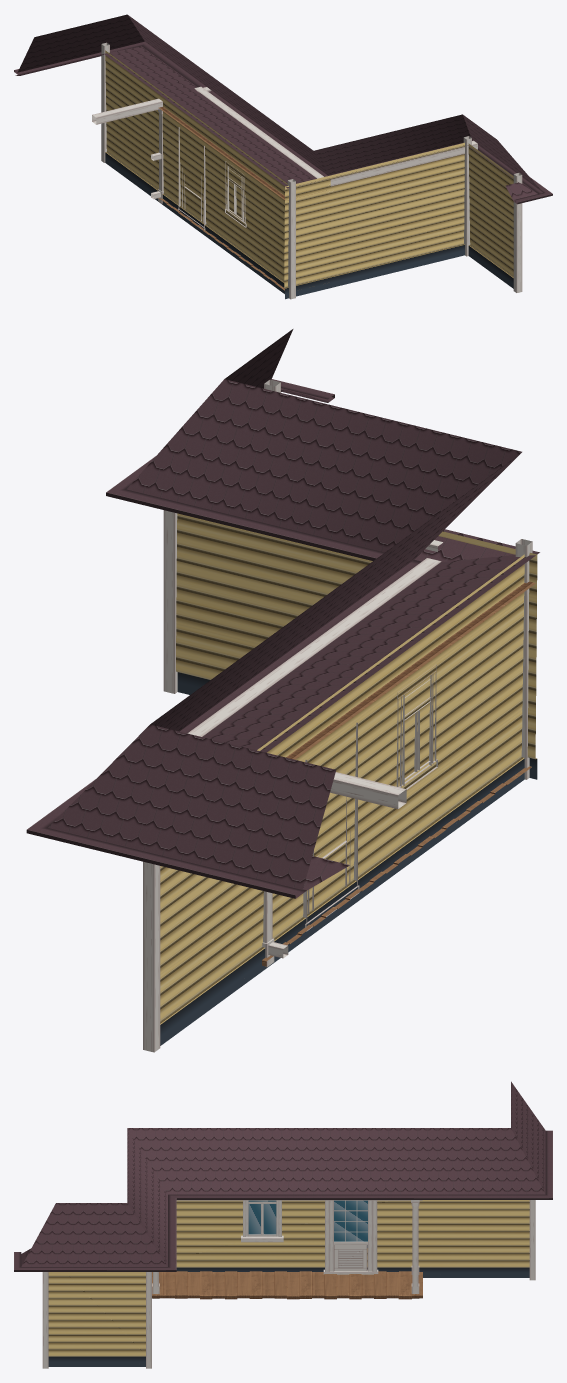
The model's file is bg_house.FBX.
3 views of the same model, one above another, from view 1: azimuth 30°, elevation 25°; view 2: azimuth 150°, elevation 25°; view 3: azimuth 270°, elevation 25° (orthographic). The views are drawn at different scales.
Visible parts, largest first — view 1: house, house_roof, winodw_glass_02, door, house_beranda; view 2: house_roof, house, winodw_glass_02, house_beranda, door; view 3: house_roof, house, house_beranda, door, winodw_glass_02, door_win.
Boxes of the visible parts, x1,y1,x2,y2 form: house: (92, 42, 522, 299); house_roof: (14, 14, 552, 204); winodw_glass_02: (225, 161, 246, 227); door: (178, 127, 206, 230); house_beranda: (158, 198, 284, 290); house_roof: (26, 329, 539, 898); house: (143, 379, 537, 1052); winodw_glass_02: (396, 664, 437, 789); house_beranda: (262, 766, 531, 966); door: (303, 722, 359, 931); house_roof: (14, 1081, 552, 1271); house: (42, 1200, 535, 1368); house_beranda: (152, 1271, 422, 1299); door: (323, 1200, 378, 1274); winodw_glass_02: (241, 1200, 283, 1242); door_win: (334, 1200, 367, 1247).
Bounding box in the file's own units: 149 × 74.47 × 232.
